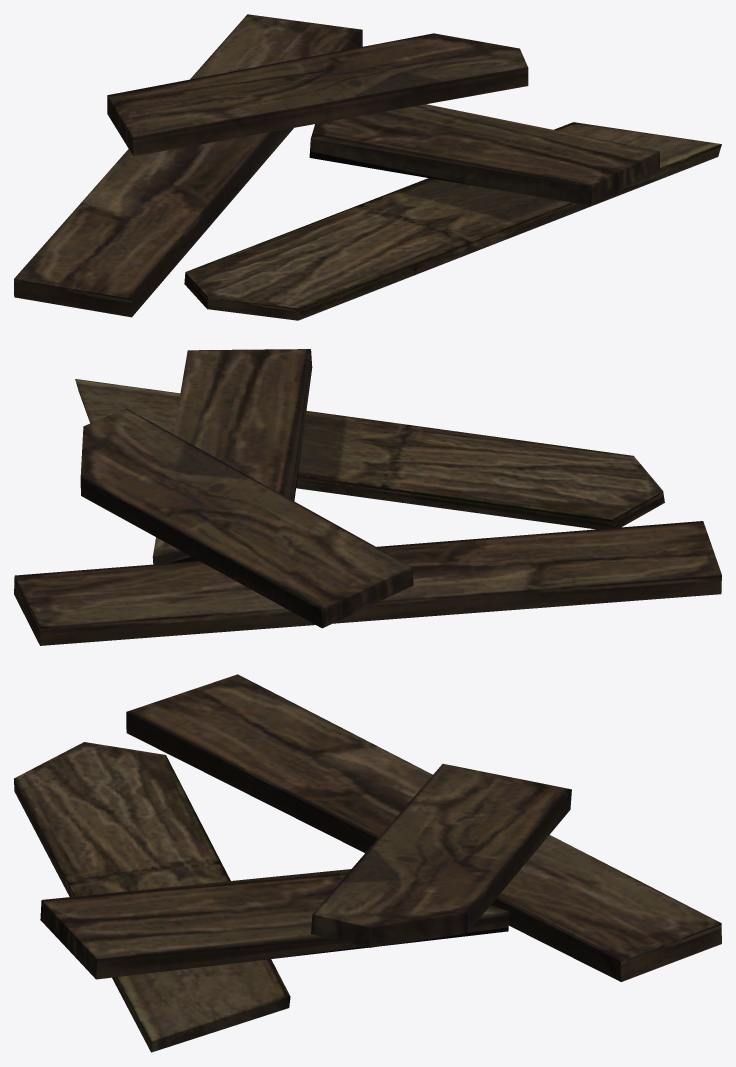
The model's file is dummy02.fbx.
3 views of the same model, one above another, from view 1: azimuth 30°, elevation 25°; view 2: azimuth 150°, elevation 25°; view 3: azimuth 270°, elevation 25° (orthographic). The views are drawn at different scales.
Visible parts, largest first — view 1: dummy02; view 2: dummy02; view 3: dummy02.
Part boxes in pixels (x1,y1,x2,y2): dummy02: (14,14,721,320); dummy02: (14,349,721,645); dummy02: (14,674,721,1052).
Size of the model in its own units: 3.58 by 0.38 by 2.92.
